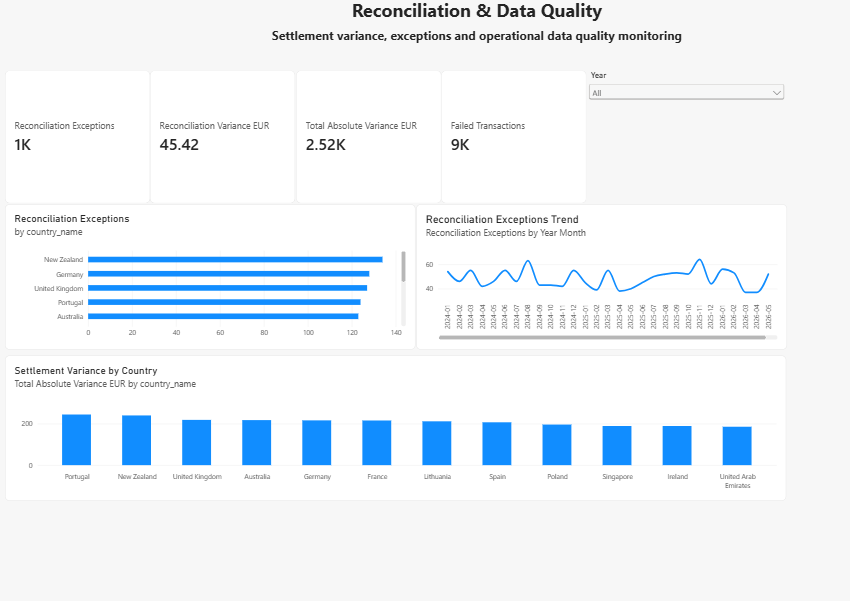

What the dashboard file says about the page in this screenshot:
{"tool":"powerbi","page":{"name":"Reconciliation & Data Quality","canvas":[1920,1080],"ordinal":1},"visuals":[{"type":"textbox","box":[9.7,0,1677.8,50],"z":0},{"type":"textbox","box":[9.7,50,1677.8,50],"z":1000},{"type":"cardVisual","fields":{"Data":["revolut_finance transactions.Reconciliation Exceptions"]},"box":[9.7,129.2,258.3,236.1],"z":2000},{"type":"cardVisual","fields":{"Data":["revolut_finance transactions.Reconciliation Variance EUR"]},"box":[267.6,129.7,258,236],"z":3000},{"type":"cardVisual","fields":{"Data":["revolut_finance transactions.Total Absolute Variance EUR"]},"box":[525.7,129.7,258,236],"z":4000},{"type":"cardVisual","fields":{"Data":["revolut_finance transactions.Failed Transactions"]},"box":[783.8,129.7,258,236],"z":5000},{"type":"clusteredBarChart","fields":{"Category":["revolut_finance customers.country_name"],"Y":["revolut_finance transactions.Reconciliation Exceptions"]},"box":[9.5,366.2,729.7,258.1],"z":6000},{"type":"lineChart","title":"Reconciliation Exceptions Trend","fields":{"Category":["Date.Year Month"],"Y":["revolut_finance transactions.Reconciliation Exceptions"]},"box":[739.2,366.2,659.5,258.1],"z":7000},{"type":"clusteredColumnChart","title":"Settlement Variance by Country","fields":{"Category":["revolut_finance customers.country_name"],"Y":["revolut_finance transactions.Total Absolute Variance EUR"]},"box":[9.5,635.1,1389.2,258.1],"z":8000},{"type":"slicer","fields":{"Values":["Date.Year"]},"box":[1041.9,129.7,356.8,236.5],"z":9000}]}

Visuals, with their boxes on the page's 1920x1080 design canvas (x1, y1, x2, y2). These are canvas units, not pixel positions in the 850x601 screenshot, which may show the page scaled, cropped or inside an application window:
textbox: box(10, 0, 1688, 50)
textbox: box(10, 50, 1688, 100)
cardVisual - revolut_finance transactions.Reconciliation Exceptions: box(10, 129, 268, 365)
cardVisual - revolut_finance transactions.Reconciliation Variance EUR: box(268, 130, 526, 366)
cardVisual - revolut_finance transactions.Total Absolute Variance EUR: box(526, 130, 784, 366)
cardVisual - revolut_finance transactions.Failed Transactions: box(784, 130, 1042, 366)
clusteredBarChart - revolut_finance customers.country_name x revolut_finance transactions.Reconciliation Exceptions: box(10, 366, 739, 624)
"Reconciliation Exceptions Trend" lineChart: box(739, 366, 1399, 624)
"Settlement Variance by Country" clusteredColumnChart: box(10, 635, 1399, 893)
slicer - Date.Year: box(1042, 130, 1399, 366)
